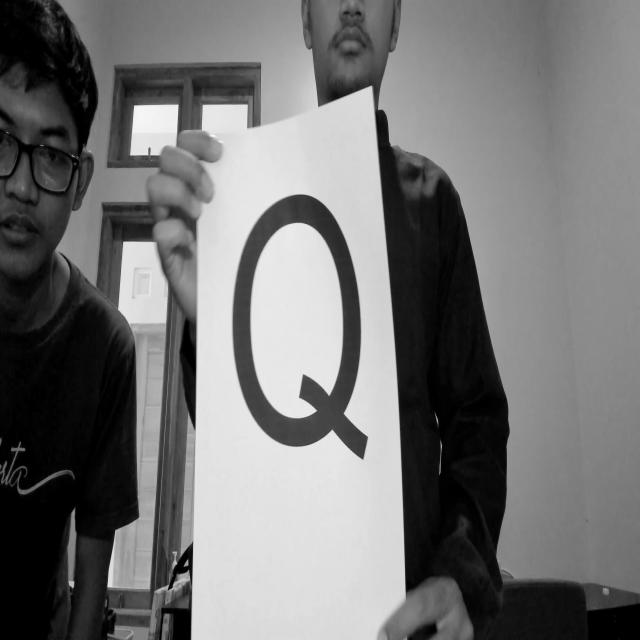q: (200, 173, 385, 489)
